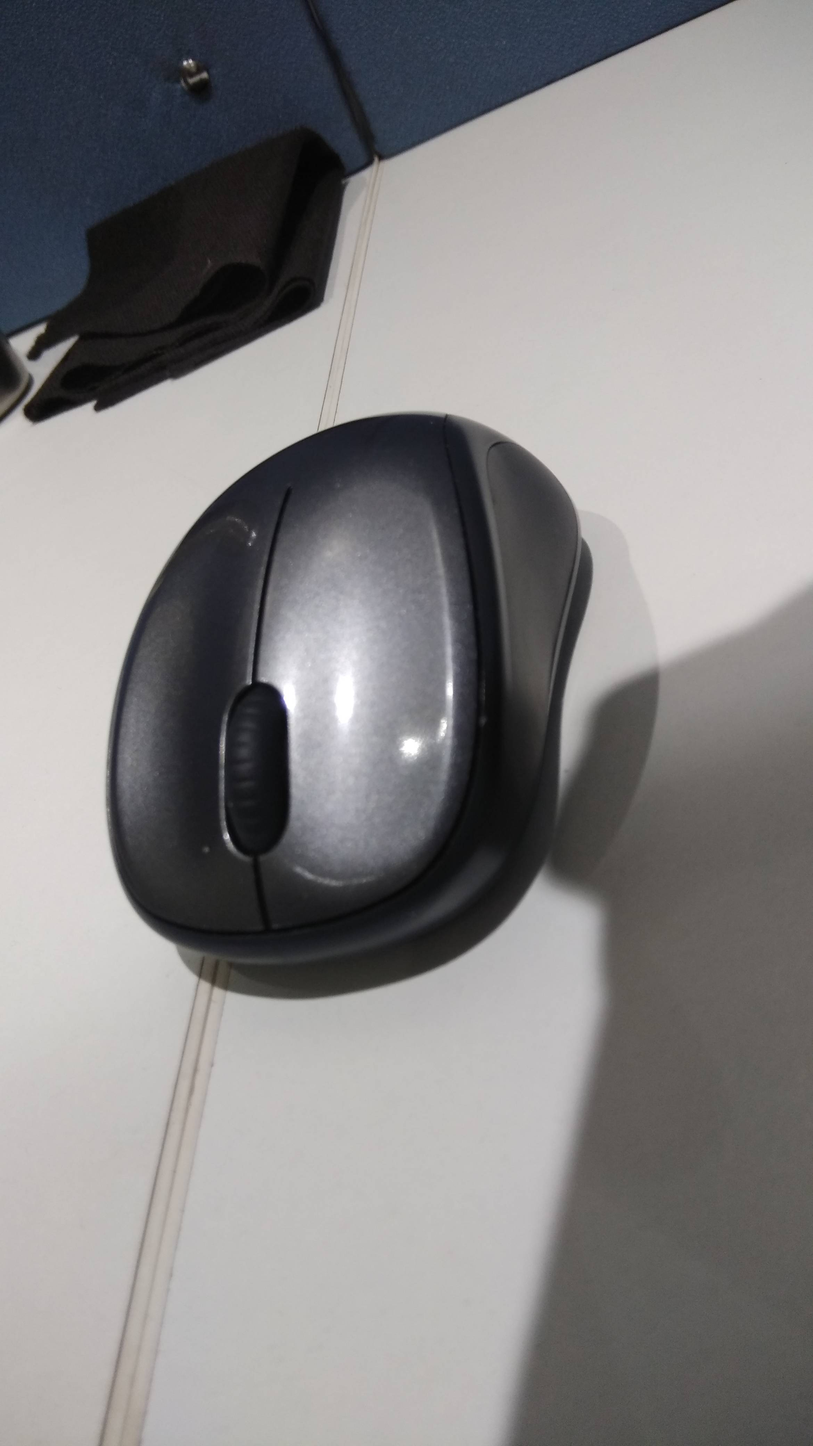Electronics: (72, 395, 630, 1025)
